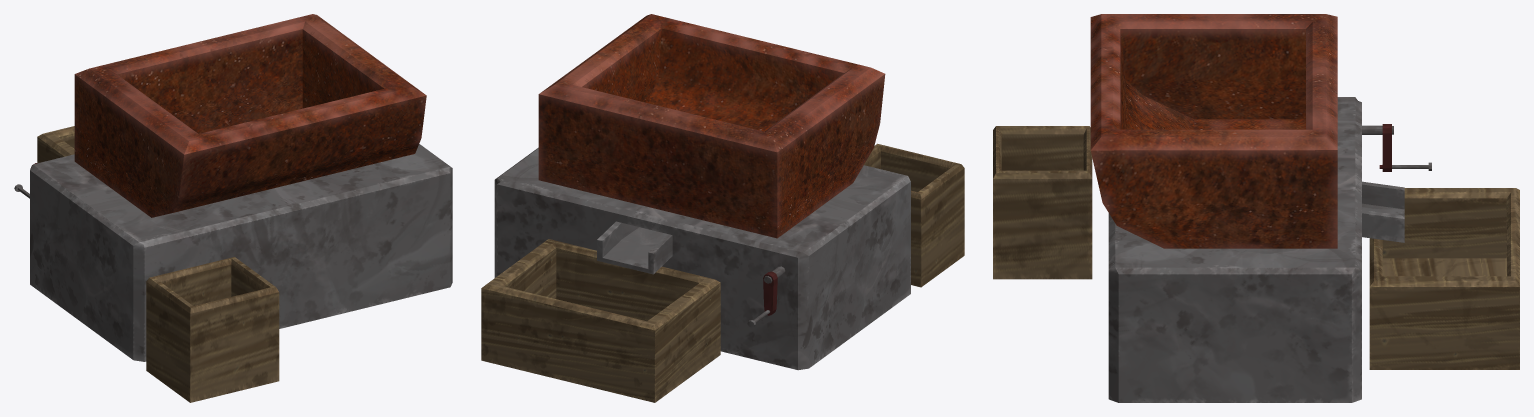
The model's file is plastico new.fbx.
3 views of the same model, side by side, from view 1: azimuth 30°, elevation 25°; view 2: azimuth 150°, elevation 25°; view 3: azimuth 270°, elevation 25° (orthographic). The views are drawn at different scales.
Visible parts, largest first — view 1: polySurface2, polySurface1, BaldePlástico1, BaldePlástico0; view 2: polySurface1, polySurface2, BaldePlástico0, BaldePlástico1, Manivela; view 3: polySurface1, polySurface2, BaldePlástico0, BaldePlástico1, Manivela.
Part boxes in pixels (left/top/right/bottom): polySurface2: left=30, top=144, right=452, bottom=361; polySurface1: left=74, top=14, right=426, bottom=217; BaldePlástico1: left=146, top=257, right=279, bottom=402; BaldePlástico0: left=37, top=126, right=74, bottom=163; polySurface1: left=538, top=14, right=885, bottom=238; polySurface2: left=494, top=147, right=910, bottom=370; BaldePlástico0: left=481, top=239, right=720, bottom=402; BaldePlástico1: left=864, top=143, right=964, bottom=287; Manivela: left=747, top=266, right=785, bottom=327; polySurface1: left=1090, top=14, right=1337, bottom=248; polySurface2: left=1108, top=97, right=1404, bottom=402; BaldePlástico0: left=1369, top=188, right=1519, bottom=369; BaldePlástico1: left=993, top=126, right=1092, bottom=279; Manivela: left=1362, top=124, right=1431, bottom=171.
Bounding box in the file's own units: 2.71 × 1.75 × 3.44.
